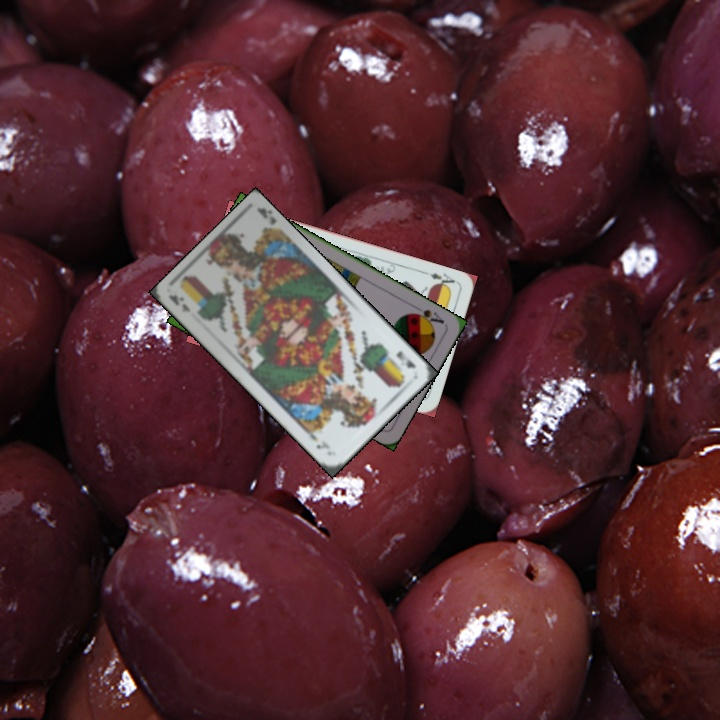EA: (419, 268, 458, 292)
EK: (165, 291, 193, 315), (392, 347, 418, 371)
SA: (407, 301, 447, 328)
